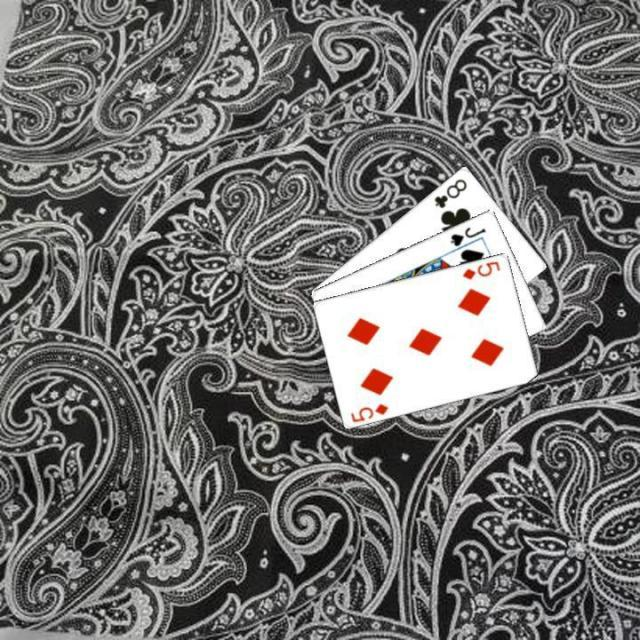5D: (347, 399, 391, 424), (459, 257, 503, 281)
8C: (431, 174, 469, 210)
JS: (446, 222, 487, 248)
